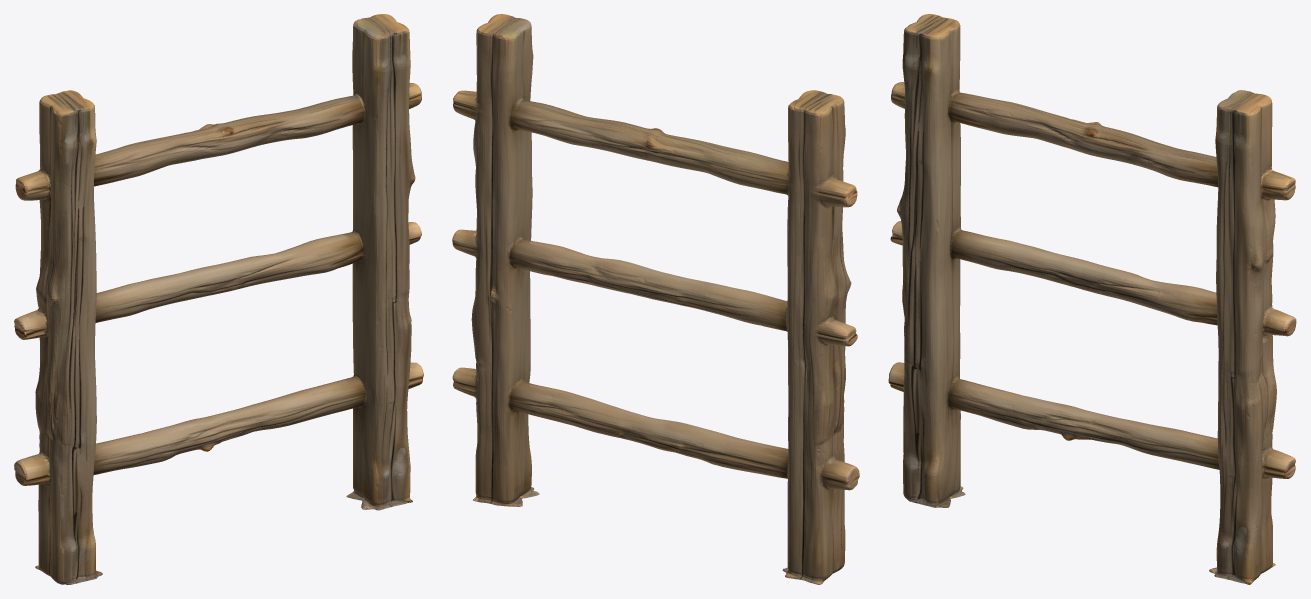
File: fence.glb
3 renders of one model, left to right at view 1: azimuth 30°, elevation 25°; view 2: azimuth 150°, elevation 25°; view 3: azimuth 330°, elevation 25°, orthographic.
Parts seen in each view (by area): view 1: textured_mesh.obj; view 2: textured_mesh.obj; view 3: textured_mesh.obj.
Part boxes in pixels (<box>): textured_mesh.obj: <box>14,14,423,584</box>; textured_mesh.obj: <box>452,14,859,584</box>; textured_mesh.obj: <box>888,14,1296,584</box>.
Size of the model in its own units: 1.76 by 1.99 by 0.2221.
1 material, 1 textured.
